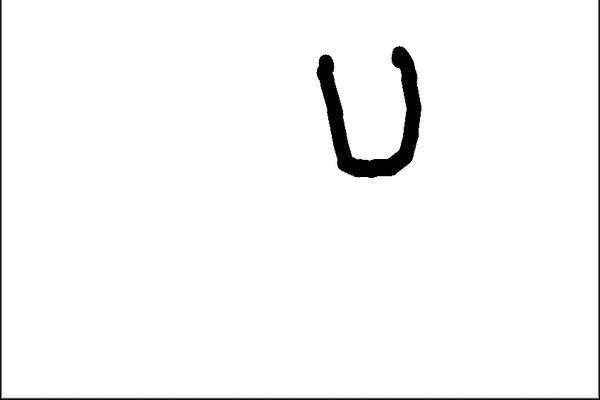U: (312, 30, 429, 183)
